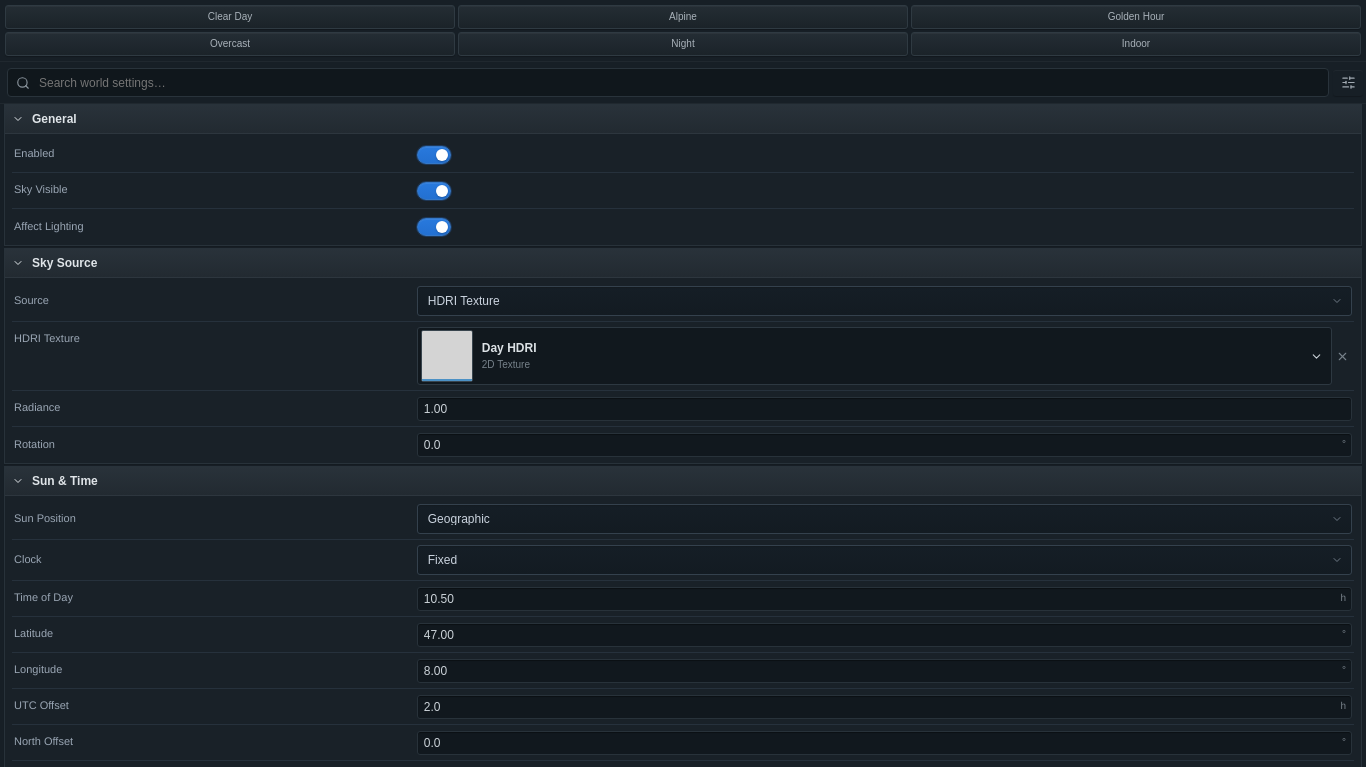
Test: schema-driven WorldEnvironmentInspector › shows square texture previews and assigns an HDRI through the asset picker
Step 1. Click the button with aria-label "Choose HDRI Texture asset" → (447, 356), box [417,327,1332,385]
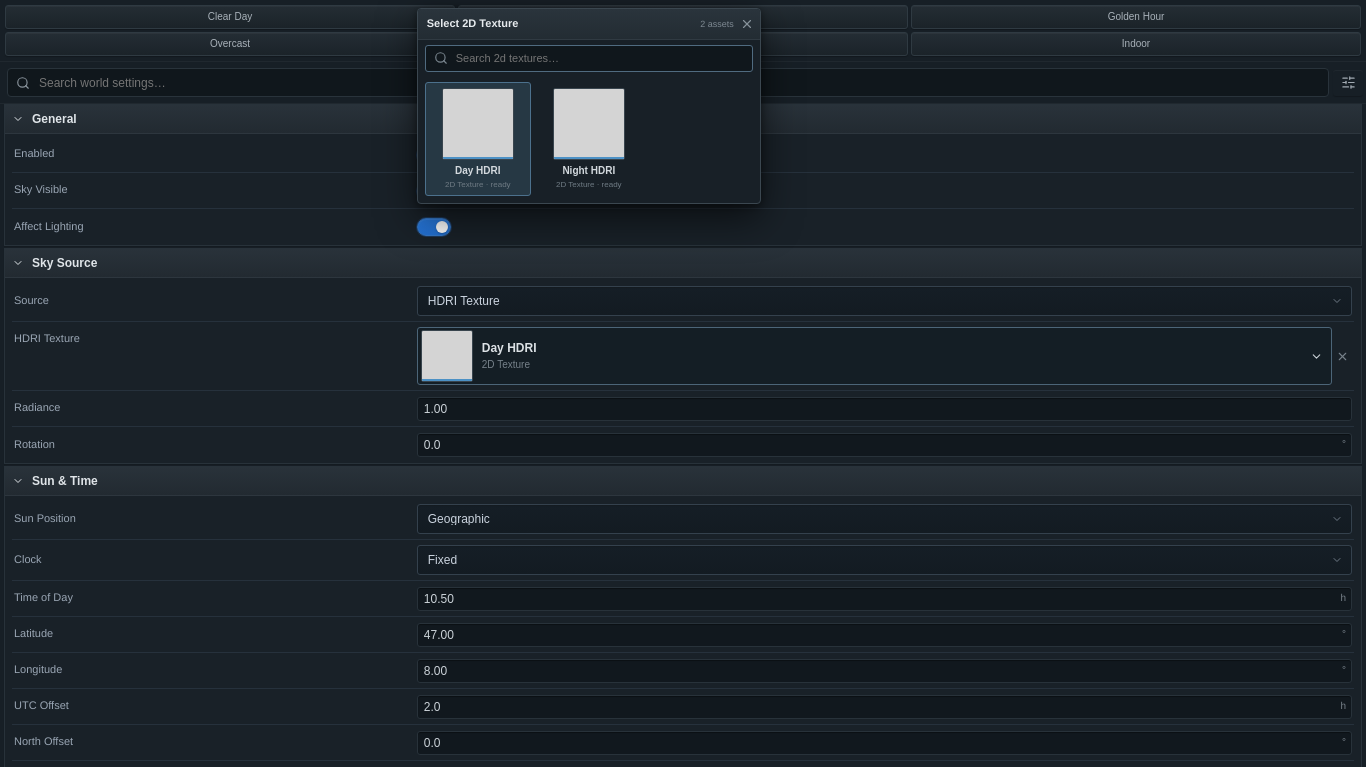
Result: the dialog named "HDRI Texture asset picker" is shown at [417,8,761,204]
Result: the button with aria-label "Select Day HDRI" is shown at [425,82,531,196]
Result: the button with aria-label "Select Night HDRI" is shown
Step 2. Click the button with aria-label "Select Night HDRI" → (589, 139), box [536,82,642,196]
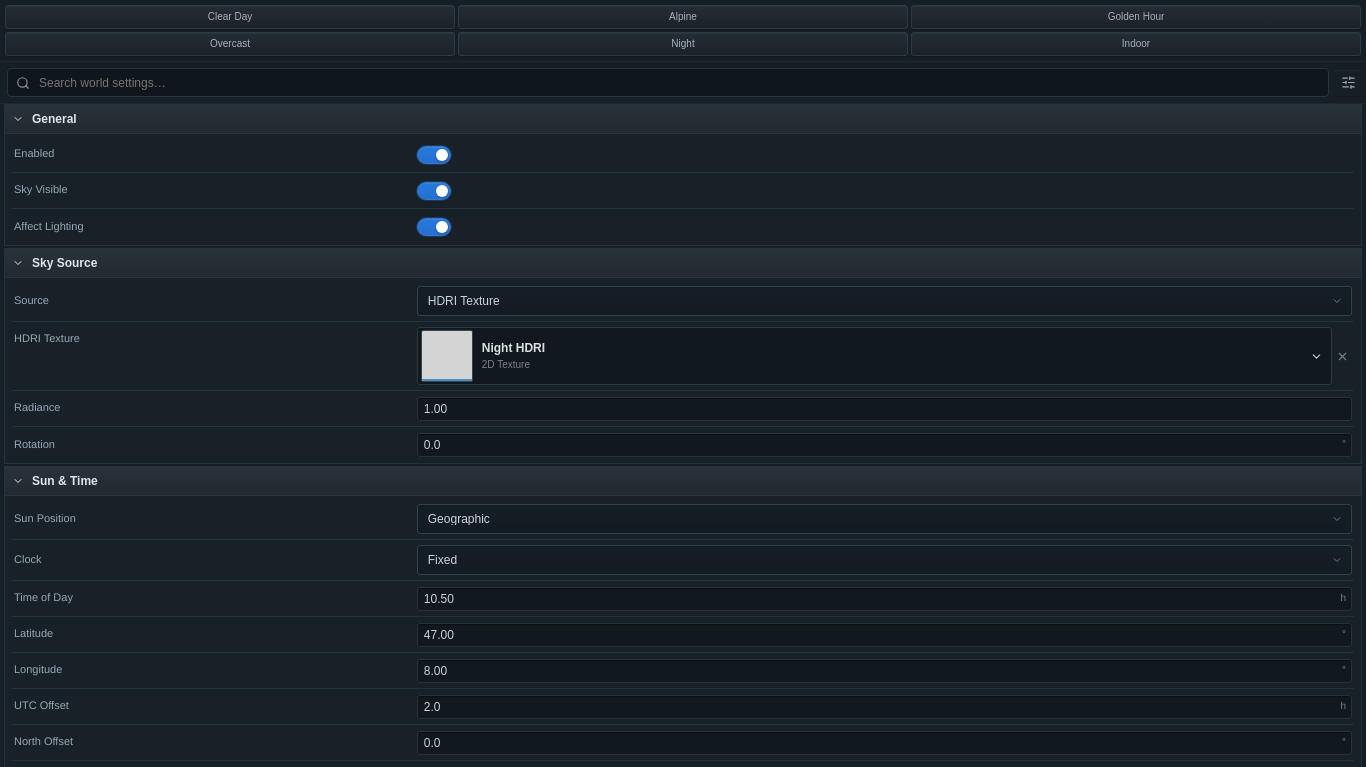
Result: the text "Night HDRI" is shown at [482,341,545,355]
